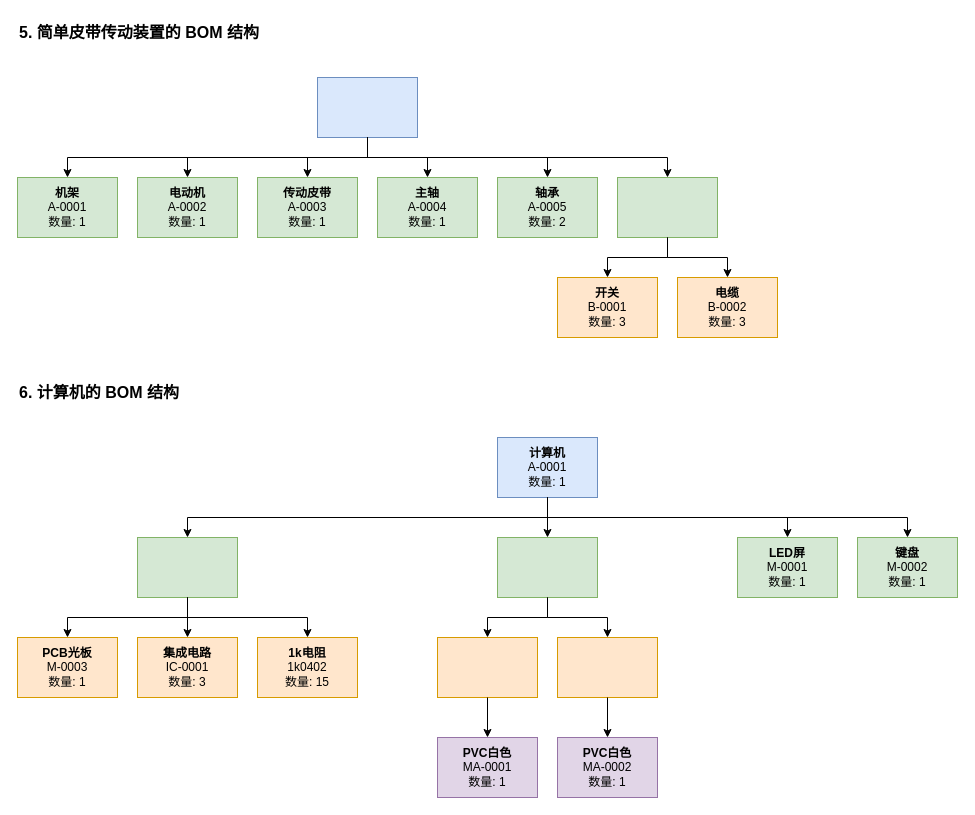
Some shapes in this 975 by 815 pixel diagram are drawn without their labels. The shapes that lost their labels are listed below. From the top down, each one's box as (x1, y1, x2, y2) in pixels, then its label:
(316, 76, 418, 138): 简单皮带传动装置
(616, 176, 718, 238): 控制面板 A-0006 数量: 1
(136, 536, 238, 598): 电路板 B-0001 数量: 1
(496, 536, 598, 598): 塑料机身 B-0002 数量: 1
(436, 636, 538, 698): 屏外壳 C-0003 数量: 1
(556, 636, 658, 698): 主机机身 C-0004 数量: 1
